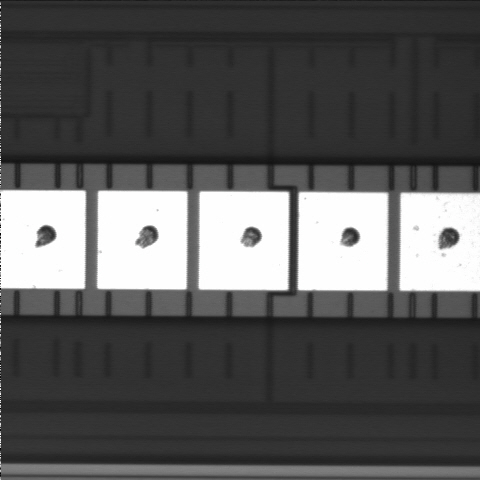pad: (97, 191, 187, 289), (199, 192, 289, 290), (298, 192, 388, 290)
